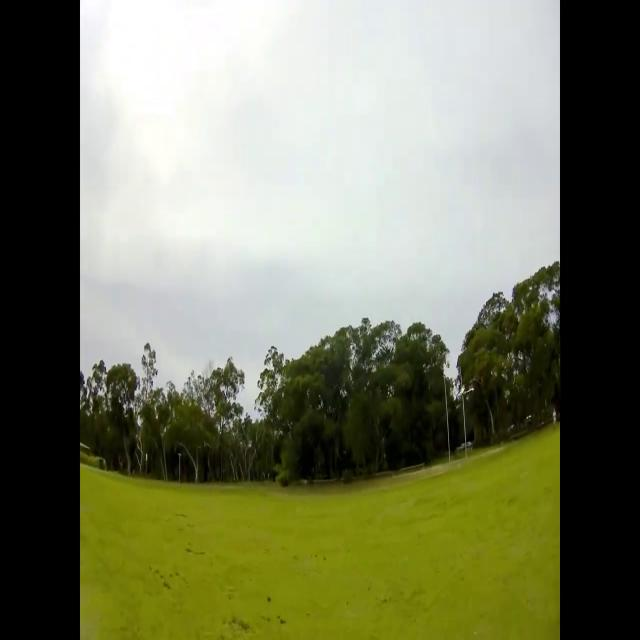iha: (457, 384, 473, 388)
